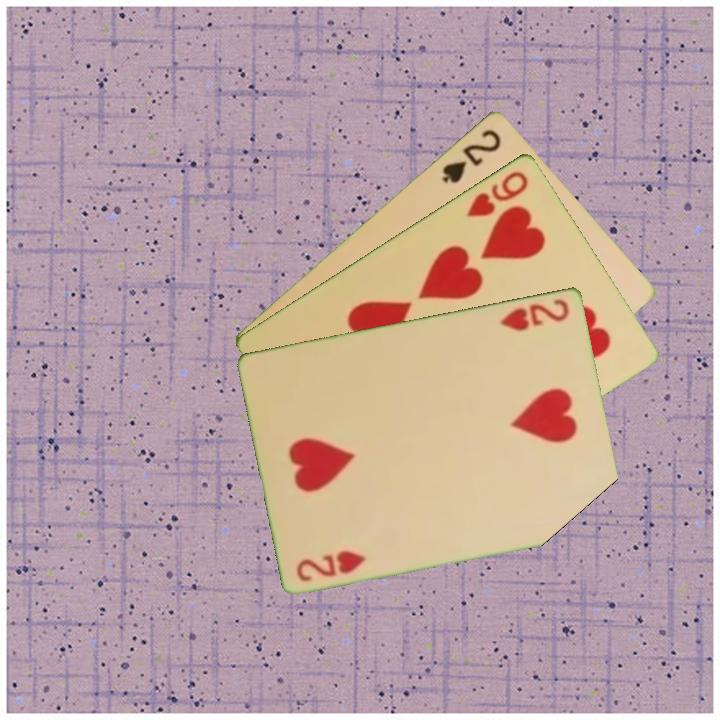2h: (497, 295, 573, 333), (293, 546, 369, 584)
2s: (438, 125, 504, 186)
9h: (463, 167, 532, 220)
